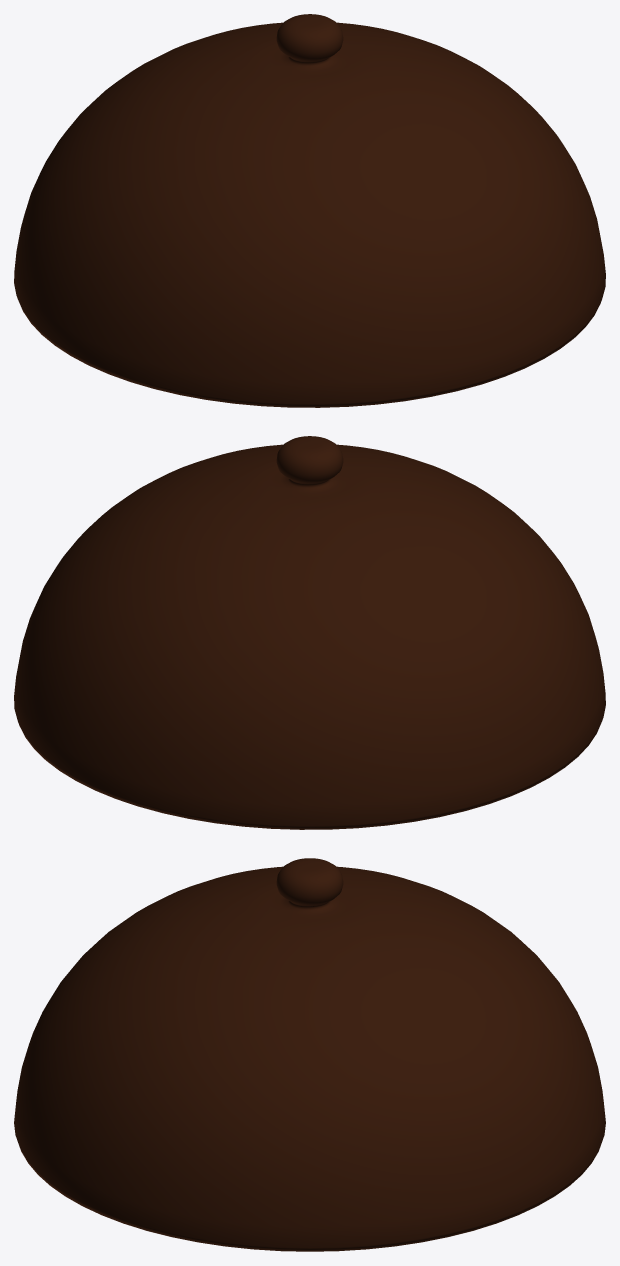
File: VP_GlassDome_separate_VP_cake_stand_dome.FBX
3 renders of one model, top to bottom at view 1: azimuth 30°, elevation 25°; view 2: azimuth 150°, elevation 25°; view 3: azimuth 270°, elevation 25°, orthographic.
Visible parts, largest first — view 1: VP_GlassDome_separate_VP_cake_stand_dome; view 2: VP_GlassDome_separate_VP_cake_stand_dome; view 3: VP_GlassDome_separate_VP_cake_stand_dome.
Boxes of the visible parts, x1,y1,x2,y2 form: VP_GlassDome_separate_VP_cake_stand_dome: [14, 14, 605, 407]; VP_GlassDome_separate_VP_cake_stand_dome: [14, 436, 605, 829]; VP_GlassDome_separate_VP_cake_stand_dome: [14, 858, 605, 1251].
Size of what is drawn, in the model's own units: 34 by 34 by 16.58.
